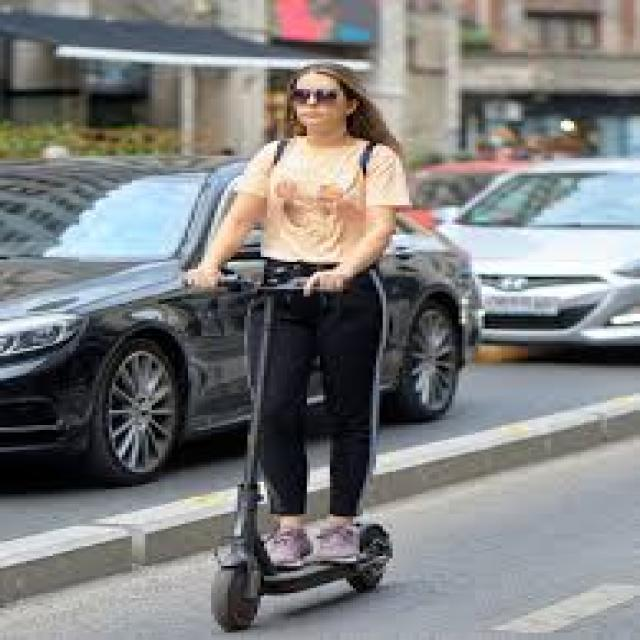non-helmet: (171, 50, 421, 636)
